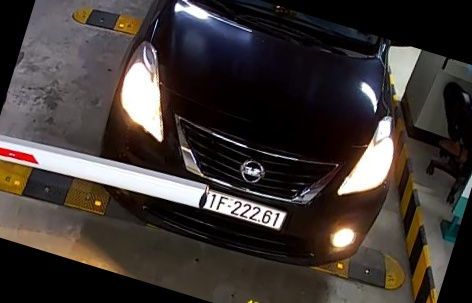plate: (194, 181, 289, 236)
